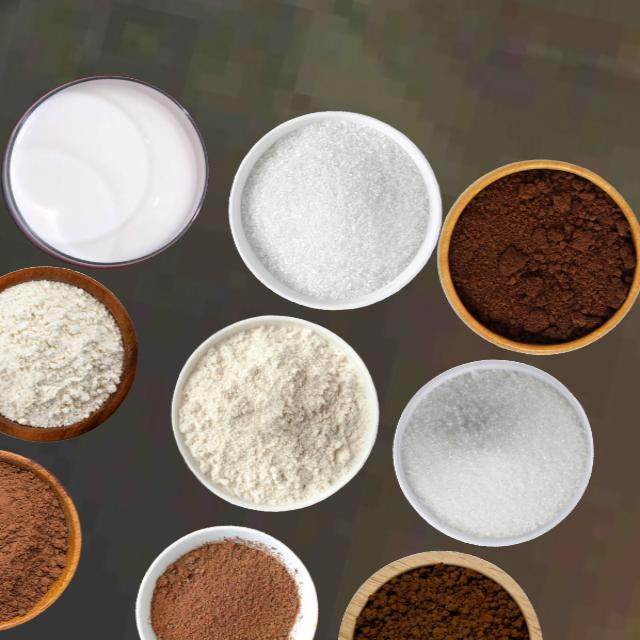Cocoa: (149, 536, 300, 639), (0, 445, 75, 625)
Coffee: (445, 164, 636, 346), (352, 561, 529, 639)
Flour: (177, 322, 369, 505), (399, 366, 589, 539), (0, 278, 124, 428)
Sugar: (239, 116, 429, 301)
